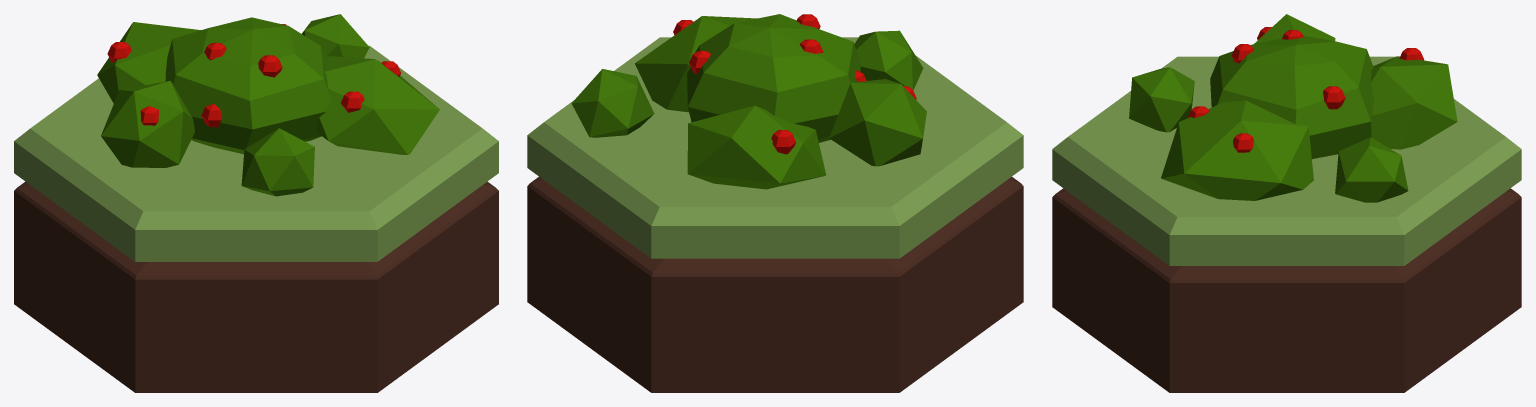
Rendered from Tile_buissons.fbx.
3 views of the same model, side by side, from view 1: azimuth 30°, elevation 25°; view 2: azimuth 150°, elevation 25°; view 3: azimuth 270°, elevation 25° (orthographic). The views are drawn at different scales.
Parts seen in each view (by area): view 1: Buisson, Icosphere.004; view 2: Buisson, Icosphere.004; view 3: Buisson, Icosphere.004.
Part boxes in pixels (x1,y1,x2,y2): Buisson: (14, 45, 498, 392); Icosphere.004: (97, 14, 439, 196); Buisson: (527, 37, 1023, 392); Icosphere.004: (571, 14, 926, 189); Buisson: (1052, 56, 1521, 392); Icosphere.004: (1129, 14, 1457, 202).
Size of the model in its own units: 173 by 123 by 200.
